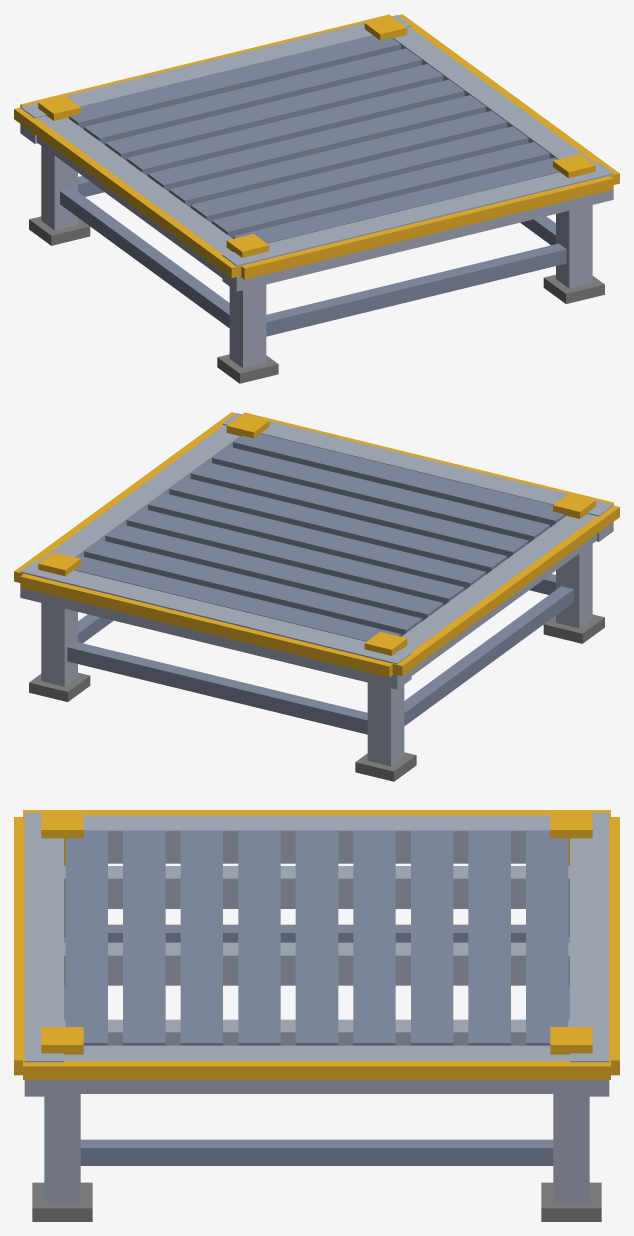
File: platform.glb
3 views of the same model, one above another, from view 1: azimuth 30°, elevation 25°; view 2: azimuth 150°, elevation 25°; view 3: azimuth 270°, elevation 25° (orthographic). The views are drawn at different scales.
Parts seen in each view (by area): view 1: platform; view 2: platform; view 3: platform.
Part boxes in pixels (x1=…): platform: x1=14, y1=14, x2=619, y2=383; platform: x1=14, y1=412, x2=619, y2=781; platform: x1=14, y1=810, x2=619, y2=1221.
Bounding box in the file's own units: 2 × 0.63 × 2.
